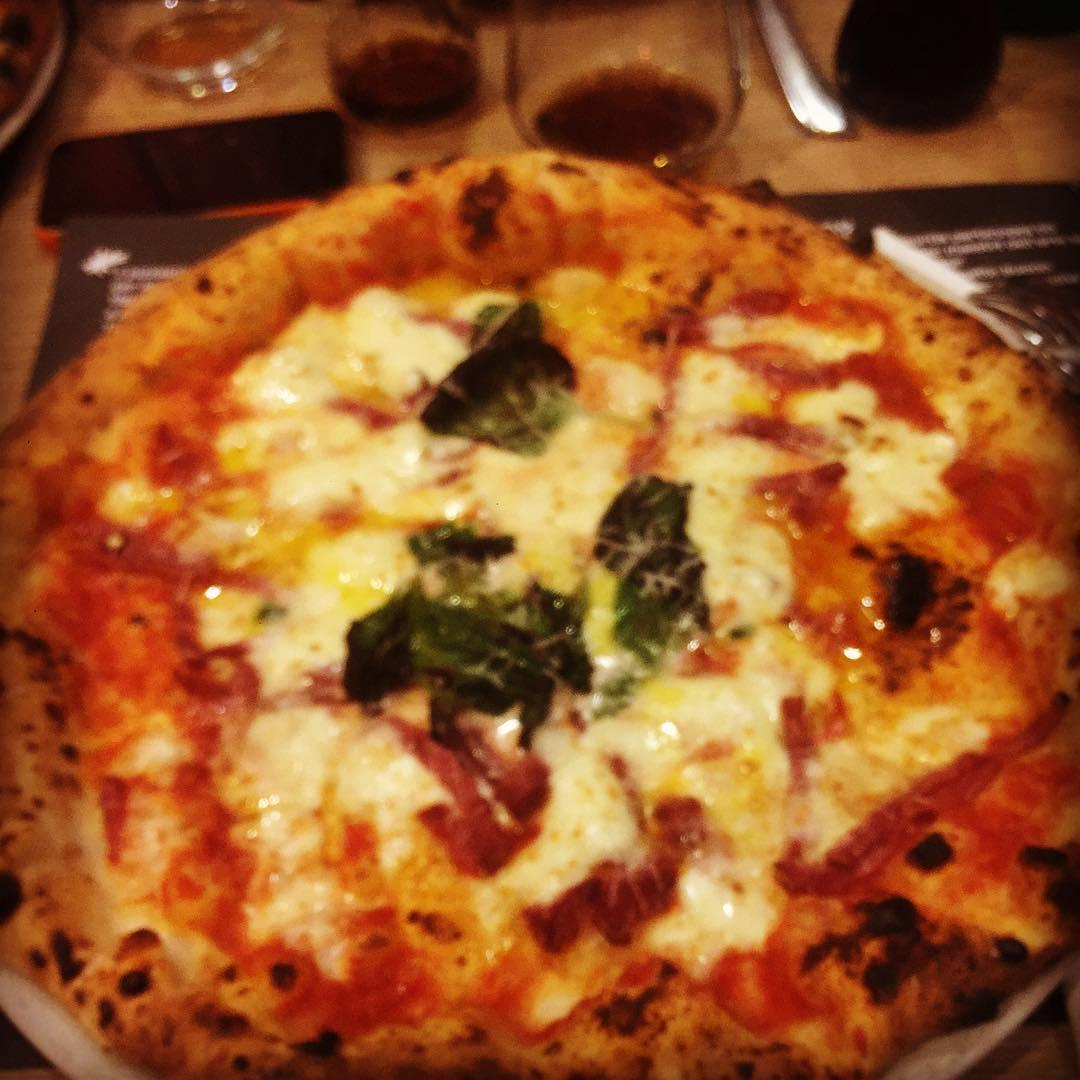Arugula: (339, 591, 565, 726), (413, 307, 574, 456), (597, 473, 708, 665)
Ham: (765, 727, 997, 905), (397, 737, 550, 881), (545, 797, 700, 937)
Pizza: (5, 155, 1080, 1080)
